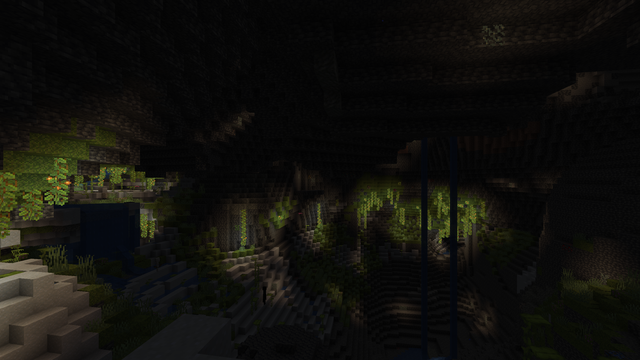endermens: (262, 285, 266, 304)
squelettes: (153, 257, 159, 271)
